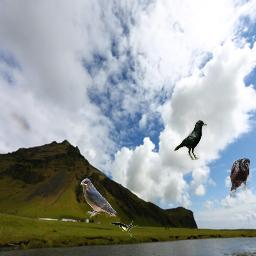Crow: (174, 120, 207, 160), (230, 158, 250, 198)
Swallow: (80, 178, 117, 218), (109, 221, 139, 237)
